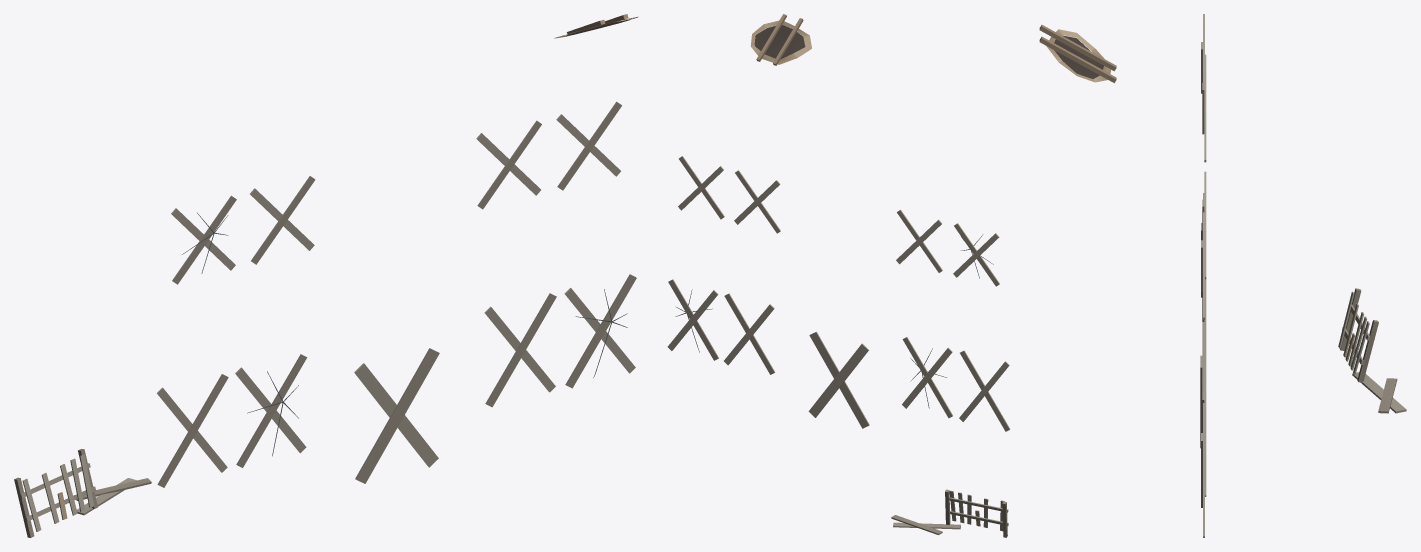
File: house_broken_manor2_low.glb
3 renders of one model, left to right at view 1: azimuth 30°, elevation 25°; view 2: azimuth 150°, elevation 25°; view 3: azimuth 270°, elevation 25°, orthographic. The views are drawn at different scales.
Size of the model in its own units: 9.66 by 8.72 by 5.32.
